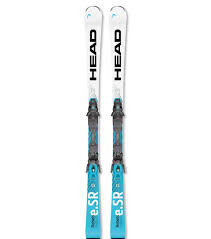skis: (83, 4, 129, 239)
